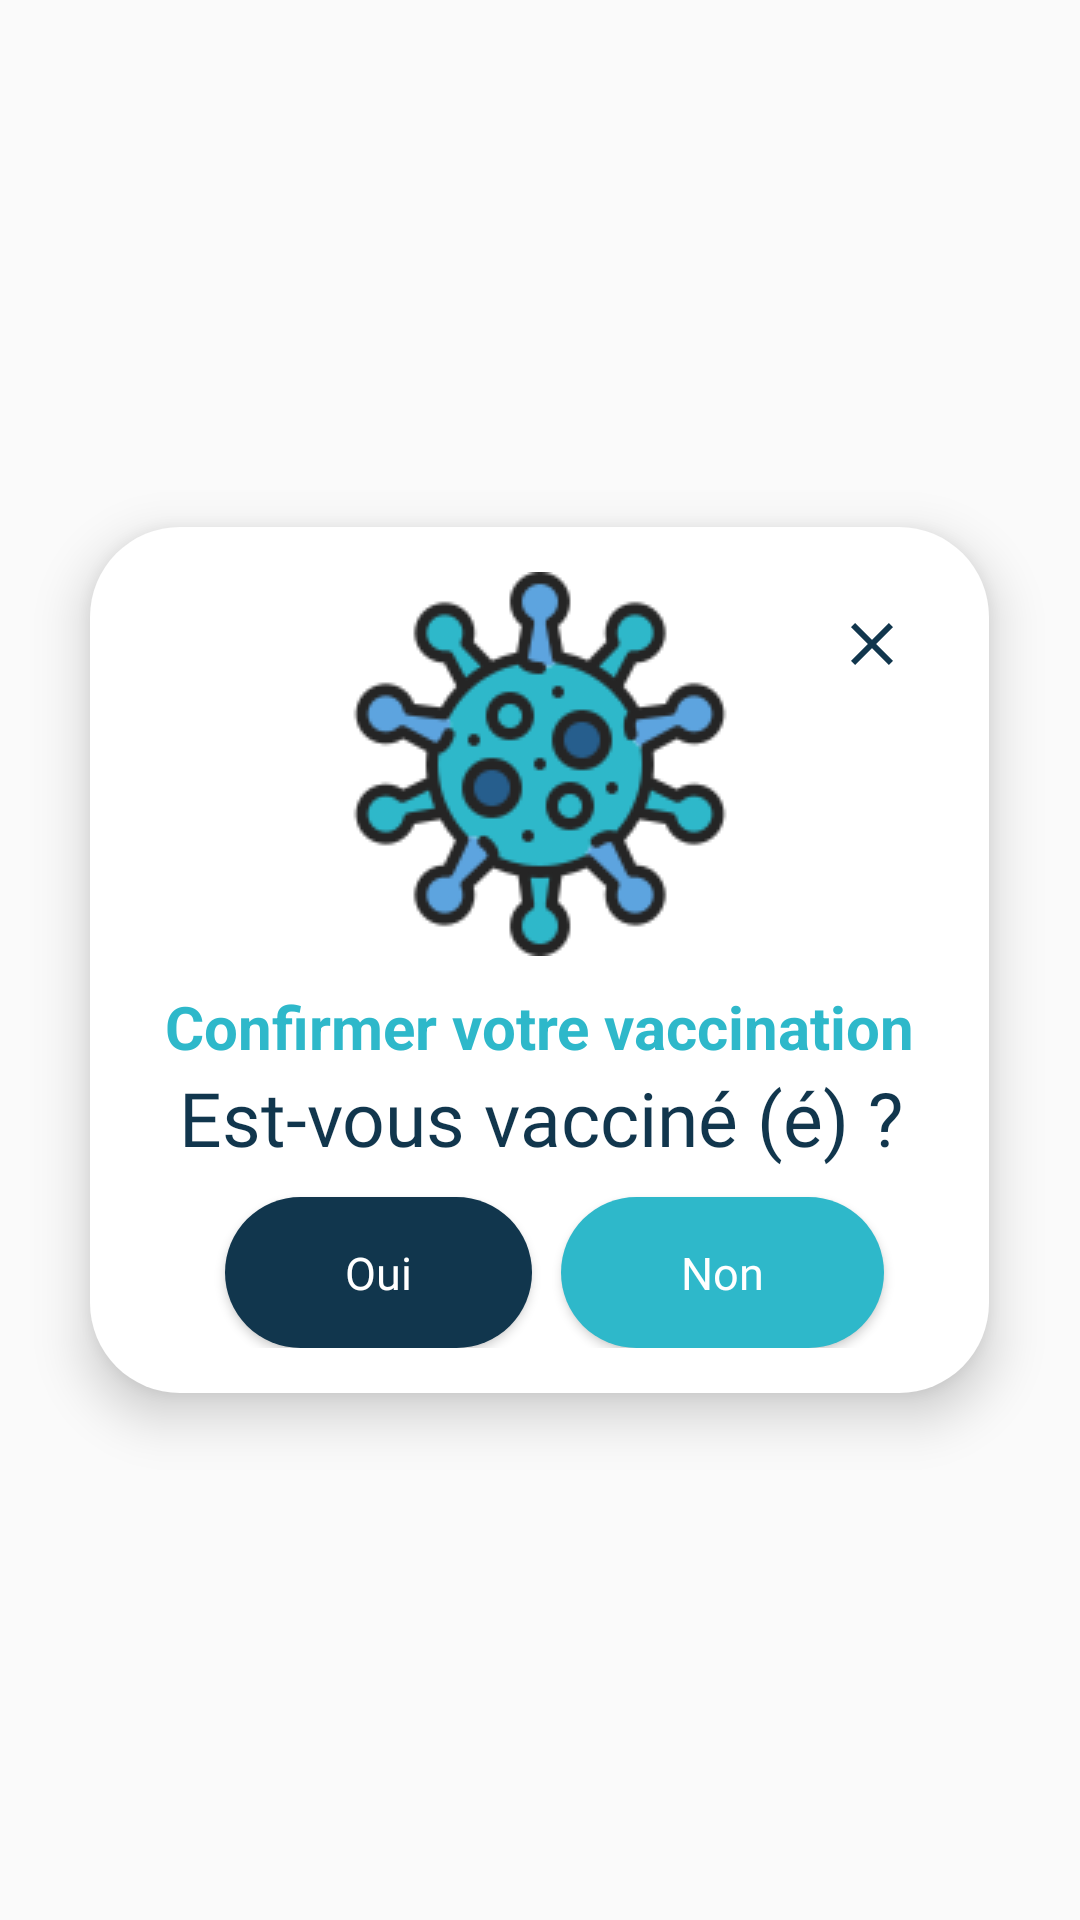

Where to tap for icons on this 1080*1920 app screen, as (x=x, y=y):
close: (x=872, y=644)
